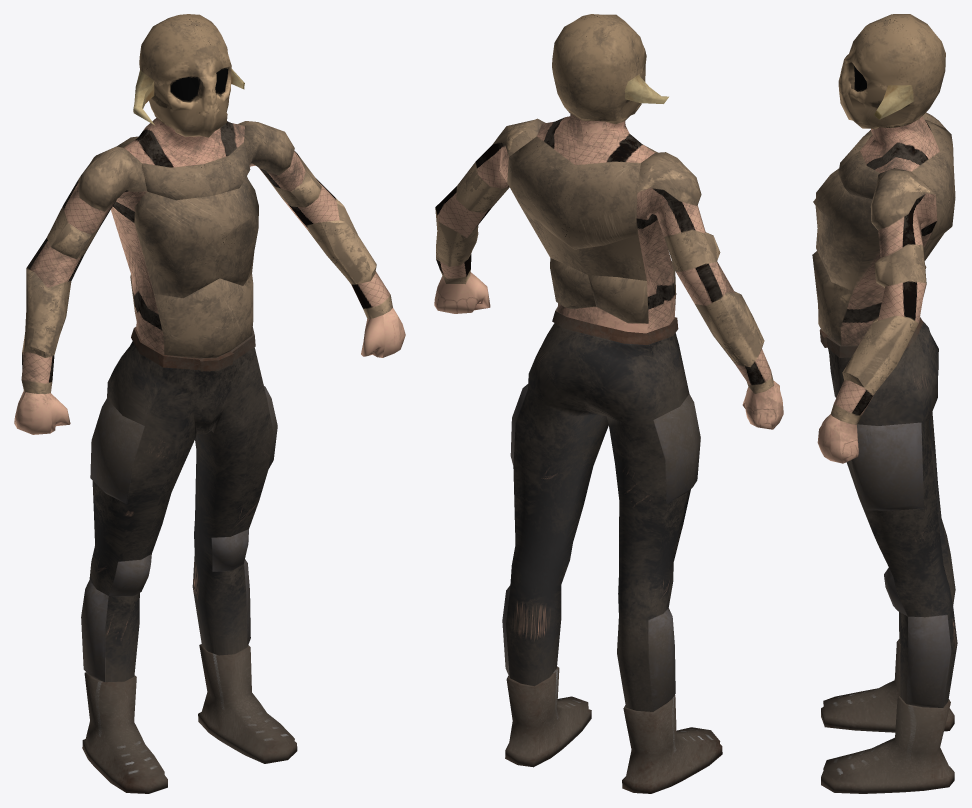
File: Anim_idle_npc1.0022.obj
The picture shows the model from 3 angles, left to right: view 1: azimuth 30°, elevation 25°; view 2: azimuth 150°, elevation 25°; view 3: azimuth 270°, elevation 25°; orthographic projection.
Visible parts, largest first — view 1: NPC2; view 2: NPC2; view 3: NPC2.
Boxes of the visible parts, x1,y1,x2,y2 form: NPC2: (14,14,405,793); NPC2: (434,14,783,793); NPC2: (812,14,957,793).
Bounding box in the file's own units: 5.02 × 9.68 × 1.73.
